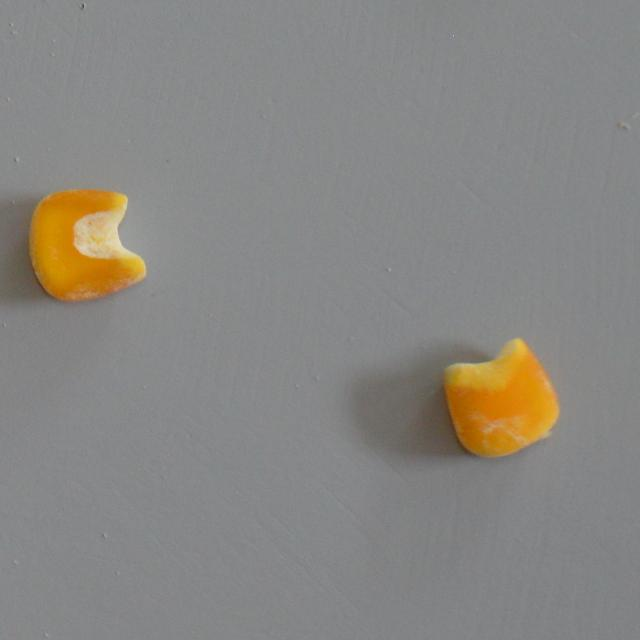dañado: (18, 177, 152, 308), (438, 332, 564, 466)
